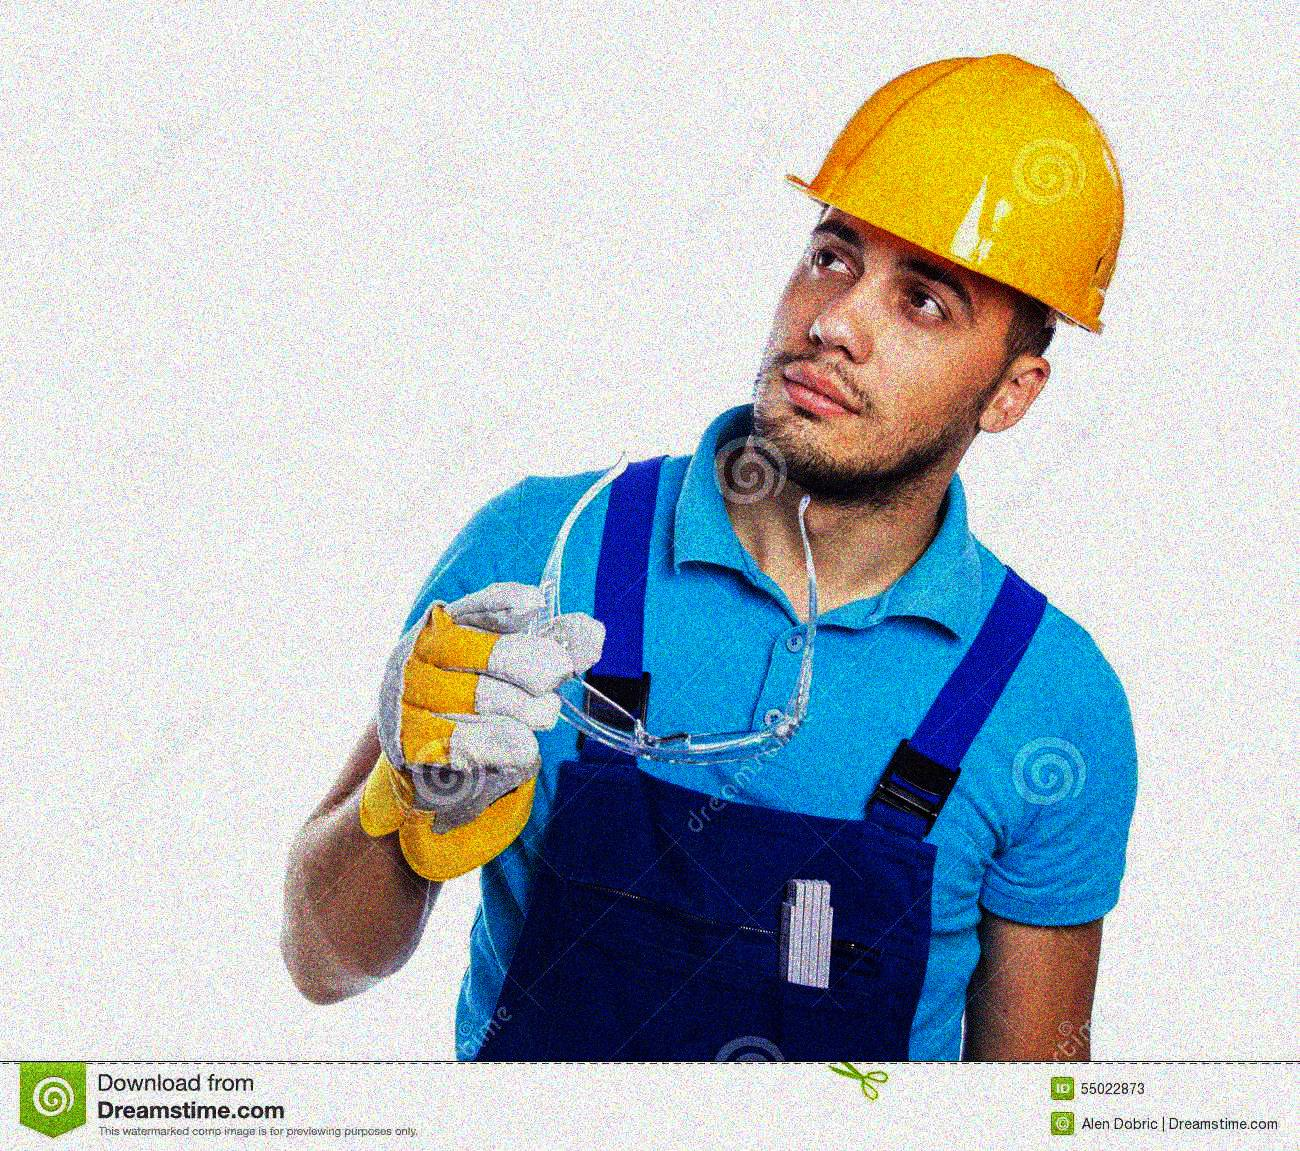helmet: (752, 47, 1133, 496)
